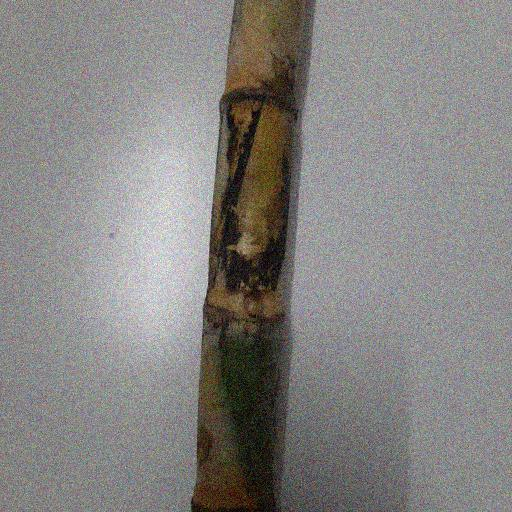Bud: (243, 291, 264, 321)
